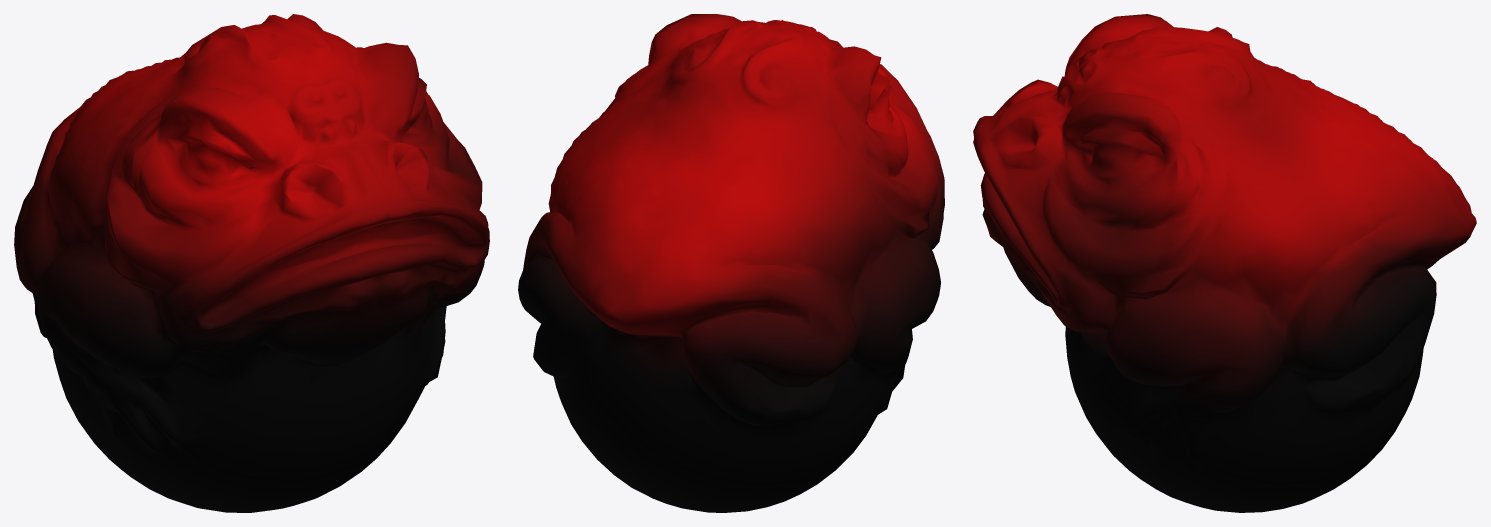
Rendered from mesh_JadeToad.fbx.
3 renders of one model, left to right at view 1: azimuth 30°, elevation 25°; view 2: azimuth 150°, elevation 25°; view 3: azimuth 270°, elevation 25°, orthographic. The views are drawn at different scales.
Parts seen in each view (by area): view 1: g Toad_Final_Low:Group28800; view 2: g Toad_Final_Low:Group28800; view 3: g Toad_Final_Low:Group28800.
Part boxes in pixels (box(x1,y1,x2,y2)): g Toad_Final_Low:Group28800: box(14, 14, 489, 512); g Toad_Final_Low:Group28800: box(518, 14, 944, 512); g Toad_Final_Low:Group28800: box(973, 14, 1476, 512).
Size of the model in its own units: 35.34 by 40.59 by 40.69.
